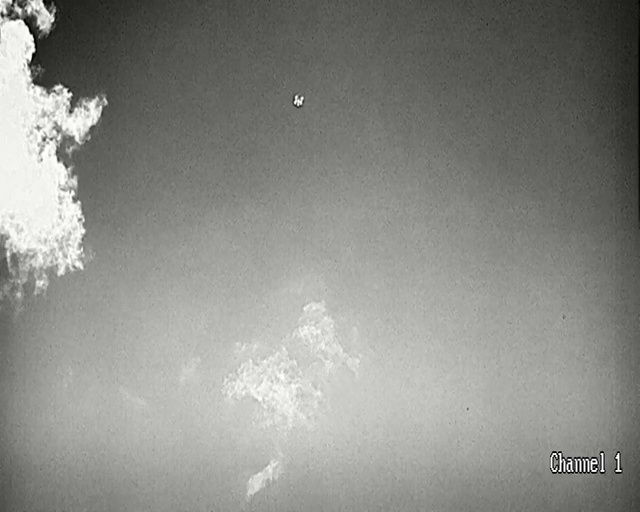uav: (292, 94, 304, 107)
